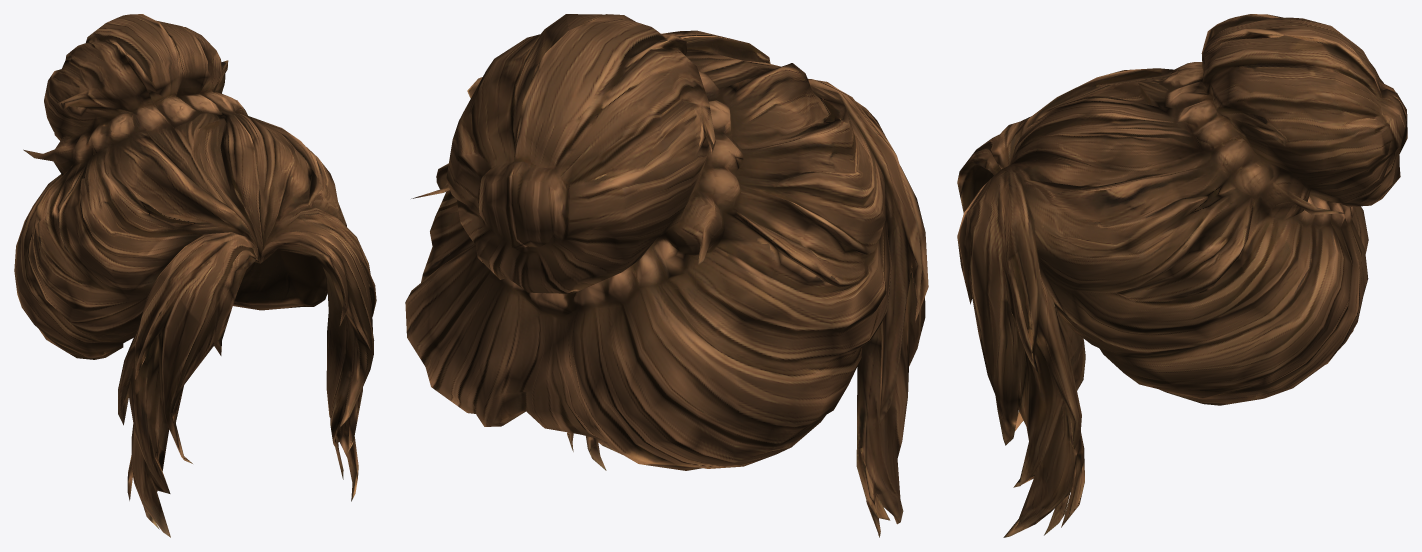
File: Coupe cheveux chignon.glb
The picture shows the model from 3 angles, left to right: view 1: azimuth 30°, elevation 25°; view 2: azimuth 150°, elevation 25°; view 3: azimuth 270°, elevation 25°; orthographic projection. The views are drawn at different scales.
Visible parts, largest first — view 1: mesh_node; view 2: mesh_node; view 3: mesh_node.
Boxes of the visible parts, bbox=[...] form: mesh_node: bbox=[14, 14, 376, 537]; mesh_node: bbox=[405, 14, 928, 537]; mesh_node: bbox=[957, 14, 1407, 537].
Bounding box in the file's own units: 1.33 × 1.9 × 1.66.
Materials: 1 (1 with a texture image).
